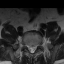CCS_normal: (30, 43, 33, 54)
LFS_stenosis: (36, 42, 39, 49)
LLS_normal: (33, 43, 36, 52)
RFS_stenosis: (24, 42, 28, 49)
RLS_normal: (28, 44, 30, 52)
